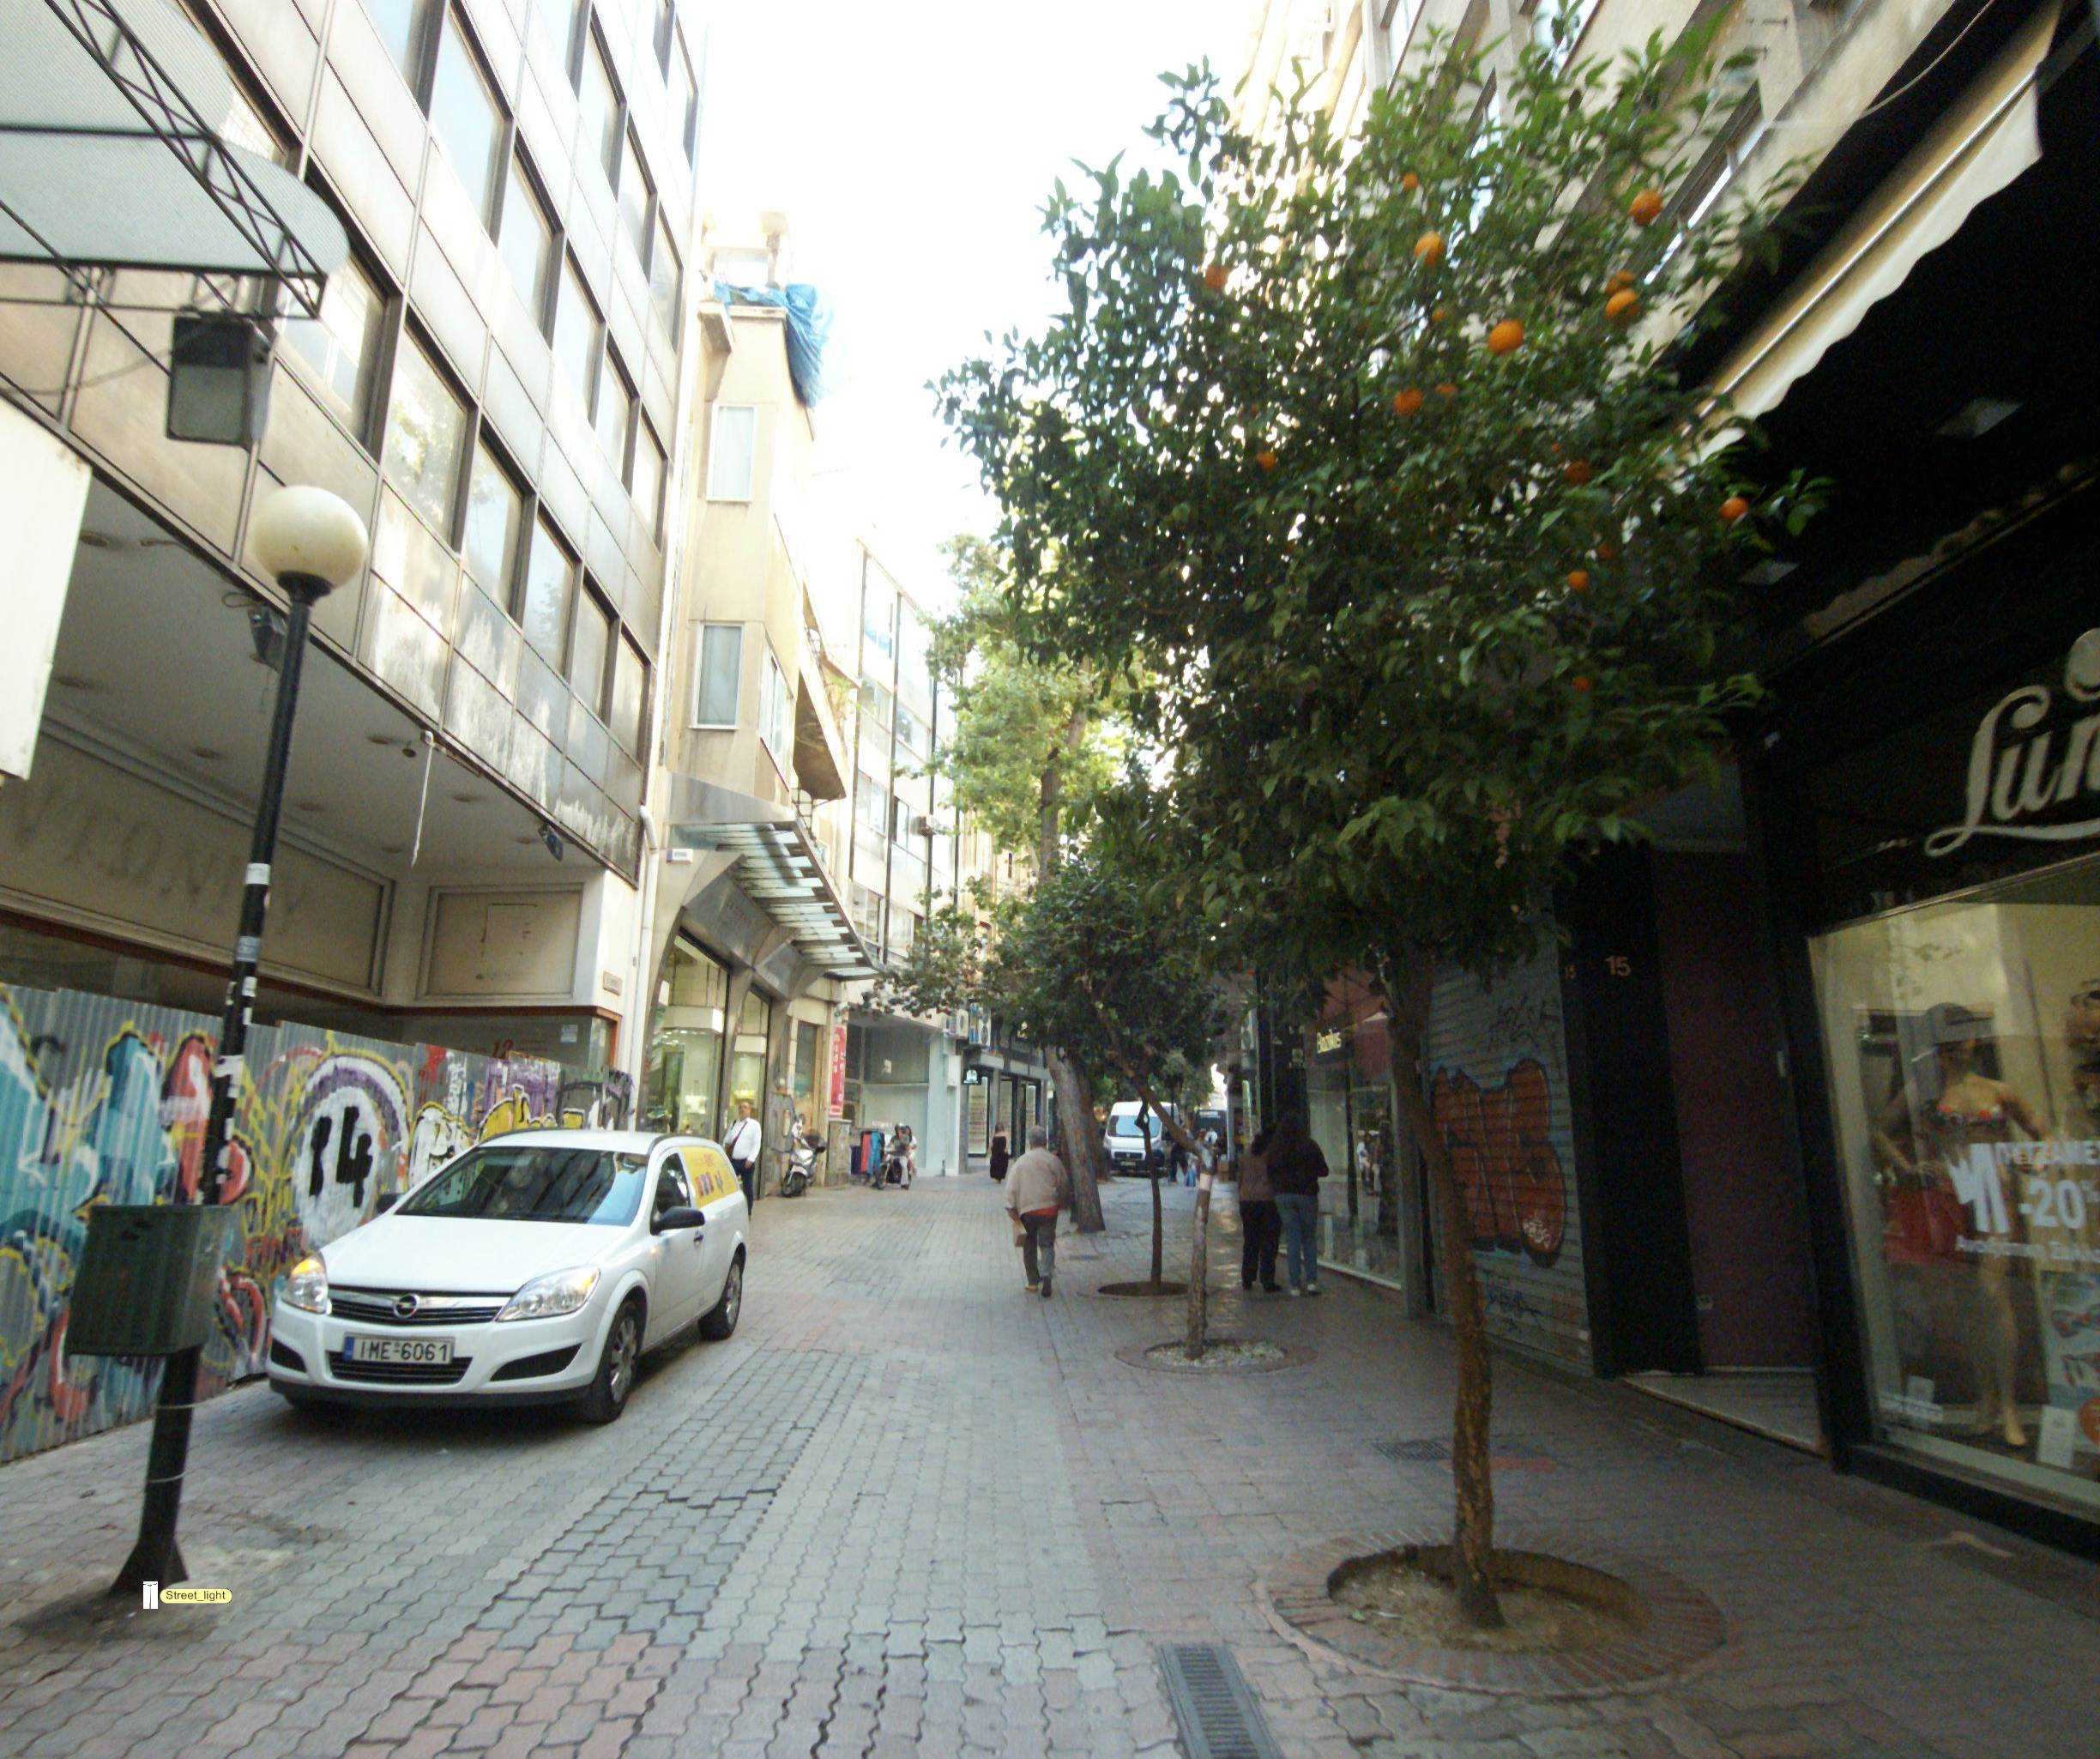tree: (893, 23, 1791, 1654)
